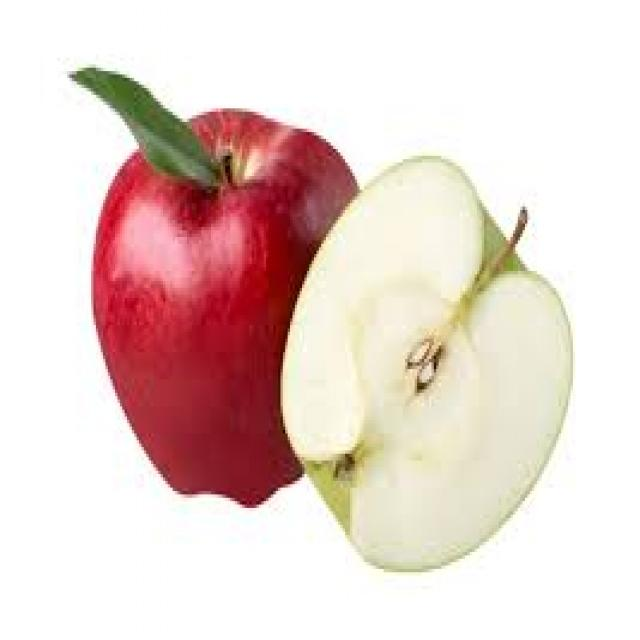Apple: (280, 157, 573, 569), (90, 110, 338, 496)
